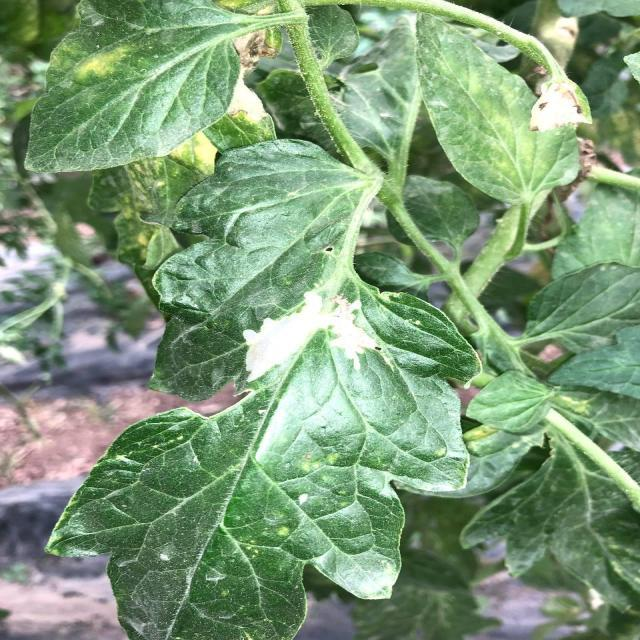Tuta absoluta: (239, 285, 378, 381)
